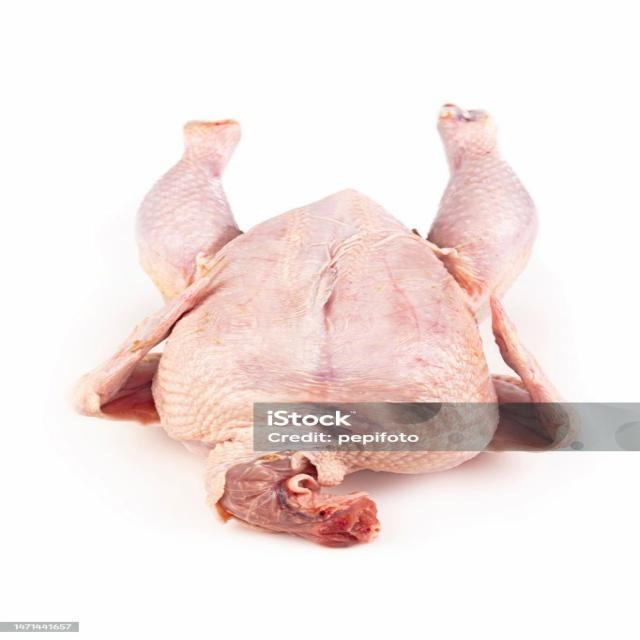Chicken: (55, 99, 592, 553)
